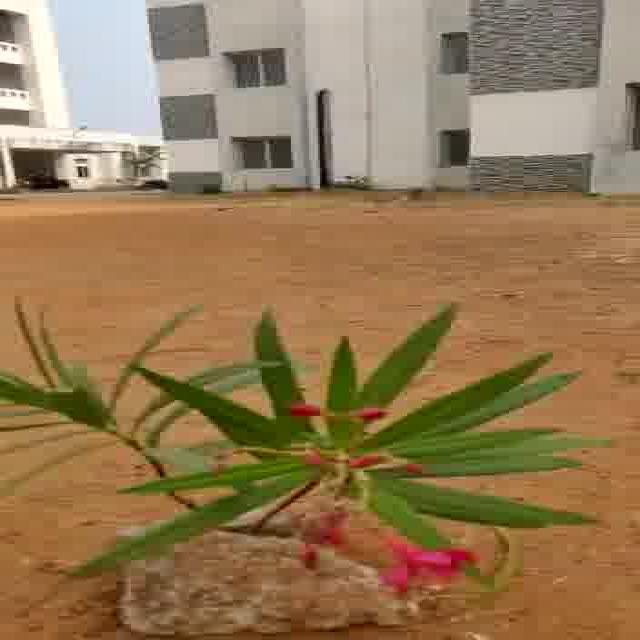Oleander: (0, 308, 580, 548)
